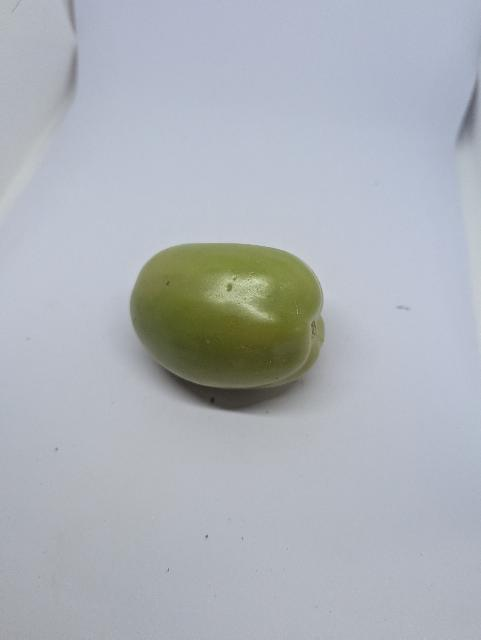green: (127, 239, 329, 393)
